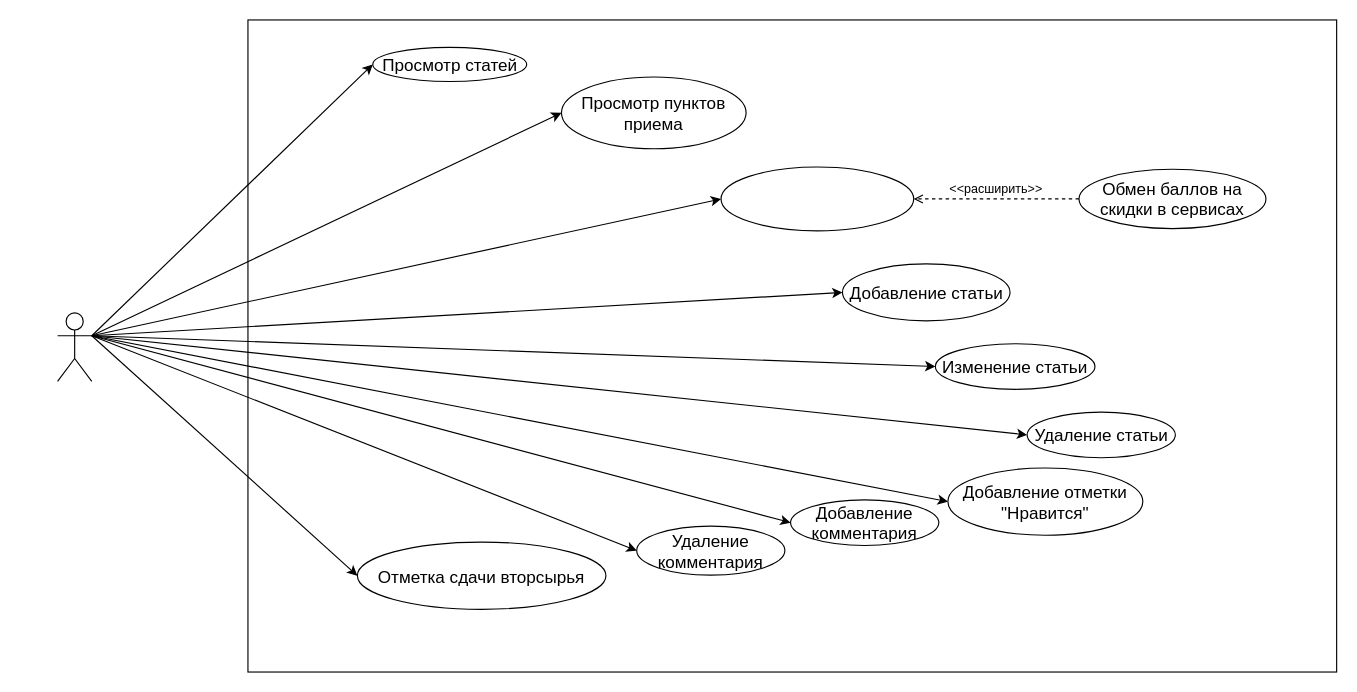
This 1357x692 diagram has some shape labels left out. The box of each missing label's shape, as (x1, y1, x2, y2) in pixels:
Пользователь: (56, 312, 92, 381)
Просмотр скидок: (720, 166, 914, 231)
